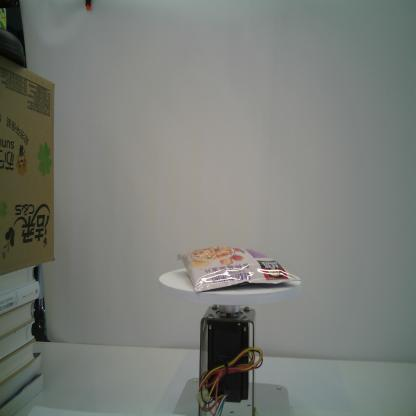Instant Drink: (177, 246, 301, 293)
